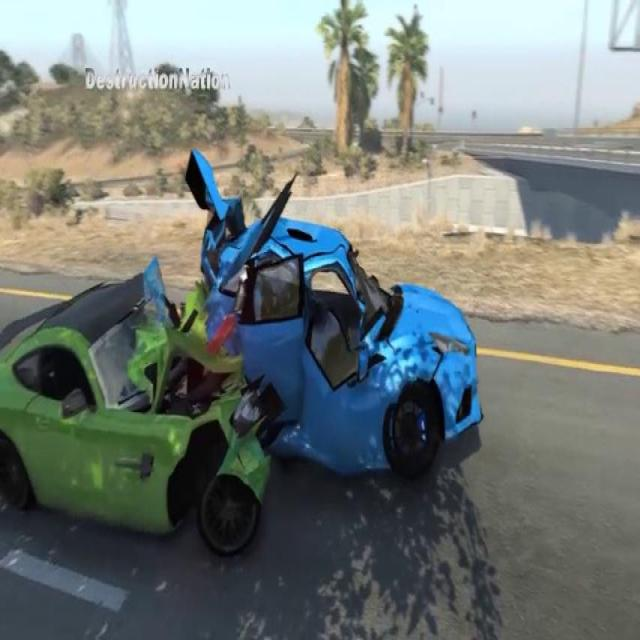severe: (0, 149, 487, 575)
